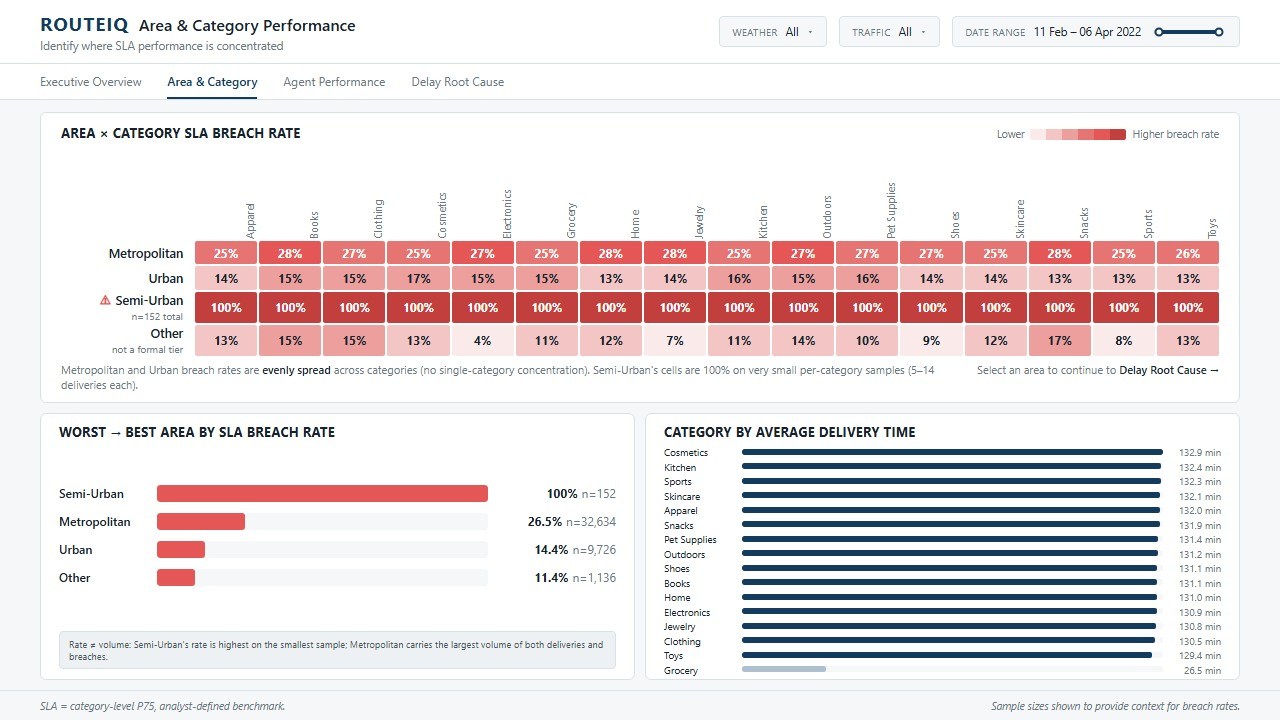

The dashboard page shown, as its layout file describes it:
{"tool":"powerbi","page":{"name":"Area & Category ","canvas":[1280,720],"ordinal":1},"visuals":[{"type":"textbox","box":[45.3,50,320.9,47.7],"z":0},{"type":"slicer","fields":{"Values":["DimWeatherTraffic.weather"]},"box":[714,29.1,180.2,68.6],"z":1000},{"type":"slicer","fields":{"Values":["DimWeatherTraffic.traffic"]},"box":[909.3,29.1,147.7,68.6],"z":2000},{"type":"slicer","fields":{"Values":["DimDate.full_date"]},"box":[1088.4,36,176.7,131.4],"z":3000},{"type":"pivotTable","fields":{"Columns":["DimCategory.category_name"],"Rows":["DimArea.area_name"],"Values":["FactDelivery.SLA Breach Rate %"]},"box":[37.2,226.7,1227.9,145.3],"z":4000},{"type":"clusteredBarChart","title":"WORST → BEST AREA BY SLA BREACH RATE","fields":{"Category":["DimArea.area_name"],"Y":["FactDelivery.SLA Breach Rate %"]},"box":[9.3,425.6,673.3,233.7],"z":5000},{"type":"clusteredBarChart","title":"CATEGORY BY AVERAGE DELIVERY TIME","fields":{"Category":["DimCategory.category_name"],"Y":["FactDelivery.Average Delivery Time (mins)"]},"box":[712.8,425.6,541.9,208.1],"z":6000},{"type":"textbox","title":"Metropolitan and Urban breach rates are evenly spread across categories (no single-category concentration). Semi-Urban''s cells are 100% on very small per-category samples (5–14 deliveries each","box":[9.3,384.9,1207,62.8],"z":7000},{"type":"textbox","title":"Rate ≠ volume: Semi-Urban''s rate is highest on the smallest sample; Metropolitan carries the largest volume of both deliveries and breaches.","box":[625.6,667.4,639.5,38.4],"z":8000},{"type":"textbox","title":"Select an area to continue to Delay Root Cause →","box":[714,404.7,566.3,20.9],"z":9000},{"type":"textbox","title":" SLA = category-level P75, analyst-defined benchmark — not a company-published target.","box":[45.3,659.3,546.5,37.2],"z":10000}]}

Visuals, with their boxes in screenshot pixels (x1, y1, x2, y2), scaled from the page's 1280x720 canvas onto the 1280x720 screenshot:
textbox: x1=45, y1=50, x2=366, y2=98
slicer - DimWeatherTraffic.weather: x1=714, y1=29, x2=894, y2=98
slicer - DimWeatherTraffic.traffic: x1=909, y1=29, x2=1057, y2=98
slicer - DimDate.full_date: x1=1088, y1=36, x2=1265, y2=167
pivotTable - DimCategory.category_name x DimArea.area_name: x1=37, y1=227, x2=1265, y2=372
"WORST → BEST AREA BY SLA BREACH RATE" clusteredBarChart: x1=9, y1=426, x2=683, y2=659
"CATEGORY BY AVERAGE DELIVERY TIME" clusteredBarChart: x1=713, y1=426, x2=1255, y2=634
"Metropolitan and Urban breach rates are evenly spread across categories (no single-category concentration). Semi-Urban''s cells are 100% on very small per-category samples (5–14 deliveries each" textbox: x1=9, y1=385, x2=1216, y2=448
"Rate ≠ volume: Semi-Urban''s rate is highest on the smallest sample; Metropolitan carries the largest volume of both deliveries and breaches." textbox: x1=626, y1=667, x2=1265, y2=706
"Select an area to continue to Delay Root Cause →" textbox: x1=714, y1=405, x2=1279, y2=426
" SLA = category-level P75, analyst-defined benchmark — not a company-published target." textbox: x1=45, y1=659, x2=592, y2=696
